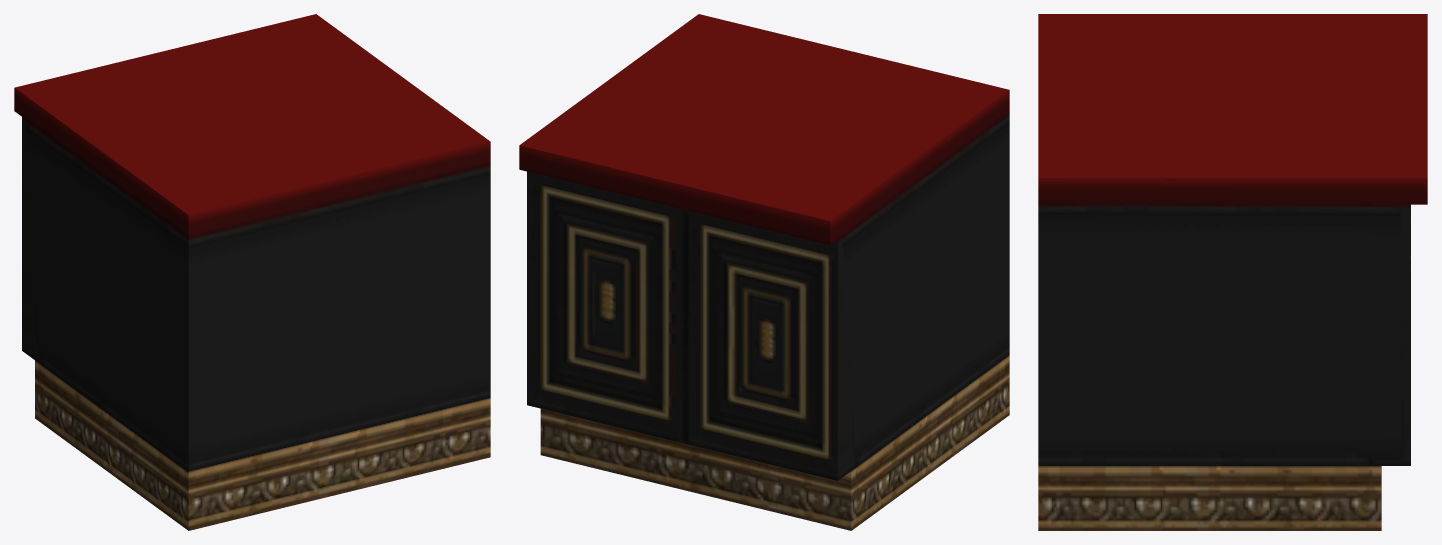
File: furni_0200320.FBX
The picture shows the model from 3 angles, left to right: view 1: azimuth 30°, elevation 25°; view 2: azimuth 150°, elevation 25°; view 3: azimuth 270°, elevation 25°; orthographic projection. The views are drawn at different scales.
Visible parts, largest first — view 1: furni_0200320; view 2: furni_0200320; view 3: furni_0200320.
Boxes of the visible parts, left/top/right/bottom form: furni_0200320: left=14, top=14, right=490, bottom=530; furni_0200320: left=519, top=14, right=1009, bottom=530; furni_0200320: left=1038, top=14, right=1427, bottom=530.
Bounding box in the file's own units: 80 × 80 × 80.
1 material, 1 textured.
